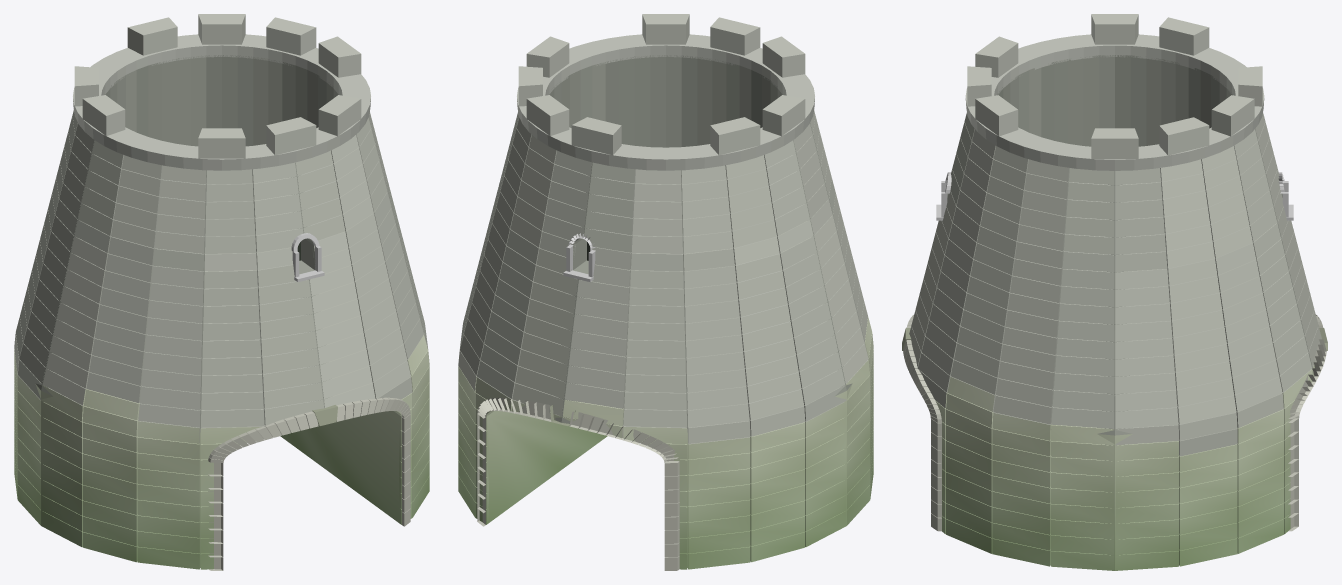
The model's file is watchtower.glb.
3 renders of one model, left to right at view 1: azimuth 30°, elevation 25°; view 2: azimuth 150°, elevation 25°; view 3: azimuth 270°, elevation 25°, orthographic.
Visible parts, largest first — view 1: watchtower_drum_concrete, watchtower_drum_jungle, watchtower_crenellations_nine_of_twelve, watchtower_crown_cornice, watchtower_back_arch_voussoirs, watchtower_back_arched_window; view 2: watchtower_drum_concrete, watchtower_drum_jungle, watchtower_crenellations_nine_of_twelve, watchtower_crown_cornice, watchtower_front_arch_voussoirs, watchtower_front_arched_window; view 3: watchtower_drum_concrete, watchtower_drum_jungle, watchtower_crenellations_nine_of_twelve, watchtower_crown_cornice, watchtower_back_arch_voussoirs, watchtower_front_arch_voussoirs.
Part boxes in pixels (bbox=[...]): watchtower_drum_concrete: bbox=[14, 55, 428, 442]; watchtower_drum_jungle: bbox=[14, 335, 429, 569]; watchtower_crenellations_nine_of_twelve: bbox=[74, 14, 361, 158]; watchtower_crown_cornice: bbox=[73, 34, 370, 170]; watchtower_back_arch_voussoirs: bbox=[208, 397, 410, 570]; watchtower_back_arched_window: bbox=[291, 233, 324, 281]; watchtower_drum_concrete: bbox=[458, 55, 868, 444]; watchtower_drum_jungle: bbox=[458, 316, 873, 569]; watchtower_crenellations_nine_of_twelve: bbox=[518, 14, 805, 155]; watchtower_crown_cornice: bbox=[517, 34, 814, 170]; watchtower_front_arch_voussoirs: bbox=[477, 397, 679, 570]; watchtower_front_arched_window: bbox=[563, 233, 595, 281]; watchtower_drum_concrete: bbox=[909, 55, 1321, 456]; watchtower_drum_jungle: bbox=[935, 361, 1315, 570]; watchtower_crenellations_nine_of_twelve: bbox=[967, 14, 1262, 158]; watchtower_crown_cornice: bbox=[965, 34, 1264, 170]; watchtower_back_arch_voussoirs: bbox=[903, 314, 941, 531]; watchtower_front_arch_voussoirs: bbox=[1288, 314, 1326, 531].
Size of the model in its own units: 28 by 30 by 28.5.
